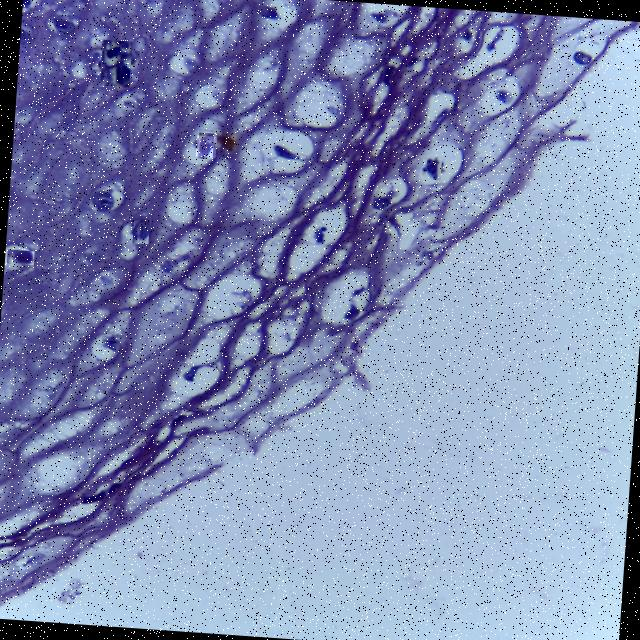Multiple Nucleol: (128, 218, 152, 242), (194, 135, 216, 157), (422, 157, 443, 178)
Nuclear Hyperchromatism: (101, 40, 128, 87), (5, 250, 33, 268)
